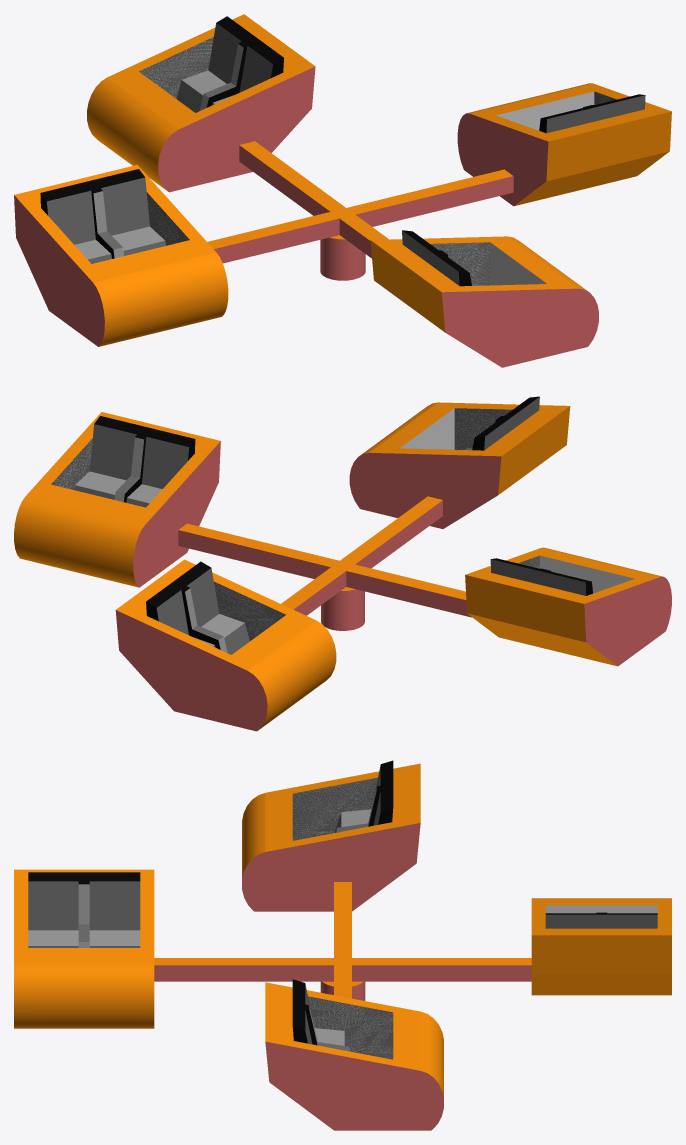
The model's file is car_red.glb.
The picture shows the model from 3 angles, top to bottom: view 1: azimuth 30°, elevation 25°; view 2: azimuth 150°, elevation 25°; view 3: azimuth 270°, elevation 25°; orthographic projection. The views are drawn at different scales.
Visible parts, largest first — view 1: SketchUp.044, SketchUp, SketchUp.020, SketchUp.076, SketchUp.033, SketchUp.065, SketchUp.058, SketchUp.011, SketchUp.038, SketchUp.056, SketchUp.078, SketchUp.052 (+18 smaller); view 2: SketchUp, SketchUp.044, SketchUp.020, SketchUp.037, SketchUp.071, SketchUp.065, SketchUp.058, SketchUp.011, SketchUp.038, SketchUp.021, SketchUp.018, SketchUp.004 (+17 smaller); view 3: SketchUp.065, SketchUp.020, SketchUp.010, SketchUp.057, SketchUp, SketchUp.044, SketchUp.038, SketchUp.055, SketchUp.016, SketchUp.018, SketchUp.078, SketchUp.069 (+8 smaller).
Boxes of the visible parts, <box> form: SketchUp.044: <box>14,165,228,346</box>; SketchUp: <box>467,83,671,205</box>; SketchUp.020: <box>87,14,315,190</box>; SketchUp.076: <box>441,288,598,367</box>; SketchUp.033: <box>158,66,315,192</box>; SketchUp.065: <box>370,236,588,332</box>; SketchUp.058: <box>14,195,104,346</box>; SketchUp.011: <box>457,113,548,206</box>; SketchUp.038: <box>207,141,512,248</box>; SketchUp.056: <box>214,218,371,263</box>; SketchUp.078: <box>356,176,513,226</box>; SketchUp.052: <box>101,177,149,235</box>; SketchUp: <box>14,412,220,587</box>; SketchUp.044: <box>465,547,663,666</box>; SketchUp.020: <box>116,559,336,729</box>; SketchUp.037: <box>115,610,267,731</box>; SketchUp.071: <box>349,453,501,528</box>; SketchUp.065: <box>360,402,570,494</box>; SketchUp.058: <box>584,577,671,665</box>; SketchUp.011: <box>133,441,220,587</box>; SketchUp.038: <box>179,496,466,609</box>; SketchUp.021: <box>293,571,471,617</box>; SketchUp.018: <box>178,530,330,578</box>; SketchUp.004: <box>89,424,136,480</box>; SketchUp.065: <box>14,869,154,1028</box>; SketchUp.020: <box>531,898,671,995</box>; SketchUp.010: <box>265,1041,443,1130</box>; SketchUp.057: <box>242,823,420,911</box>; SketchUp: <box>265,982,443,1097</box>; SketchUp.044: <box>242,763,420,879</box>; SketchUp.038: <box>154,882,531,998</box>; SketchUp.055: <box>292,777,377,840</box>; SketchUp.016: <box>308,996,393,1059</box>; SketchUp.018: <box>352,965,531,981</box>; SketchUp.078: <box>154,965,333,981</box>; SketchUp.069: <box>89,881,140,930</box>.
Size of the model in its own units: 7.33 by 1.54 by 7.33.
